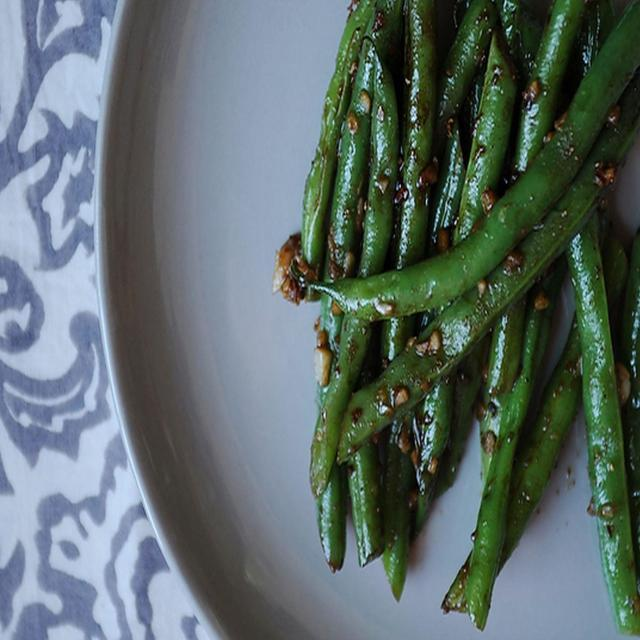Beans: (282, 0, 639, 639)
